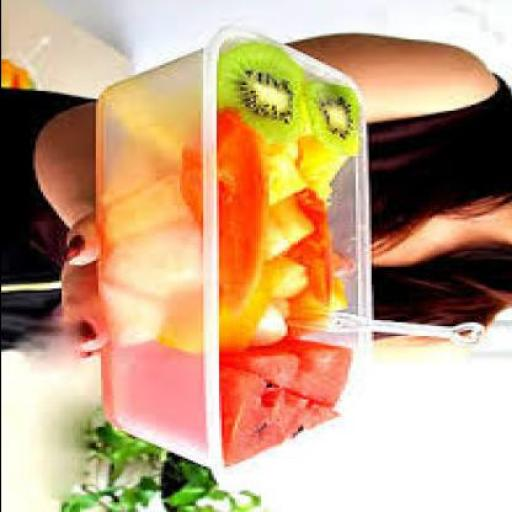biodegradable: (182, 109, 265, 311), (168, 251, 291, 352), (224, 366, 346, 462), (221, 42, 305, 148), (220, 340, 354, 404), (292, 188, 338, 314), (310, 80, 360, 154), (307, 134, 349, 204), (266, 196, 314, 257), (246, 298, 294, 348), (265, 150, 307, 206), (263, 253, 312, 298), (334, 269, 352, 311)
plastic: (95, 22, 375, 467), (292, 306, 488, 344)
